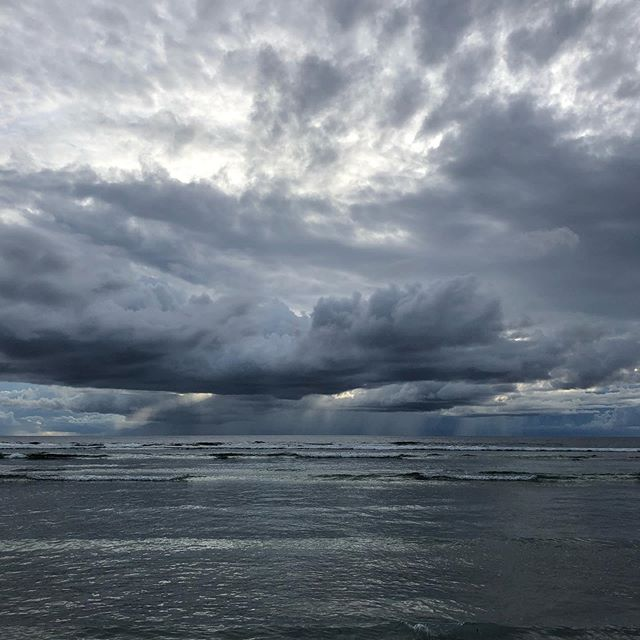sea: (9, 429, 640, 640)
sky: (1, 1, 612, 408)
